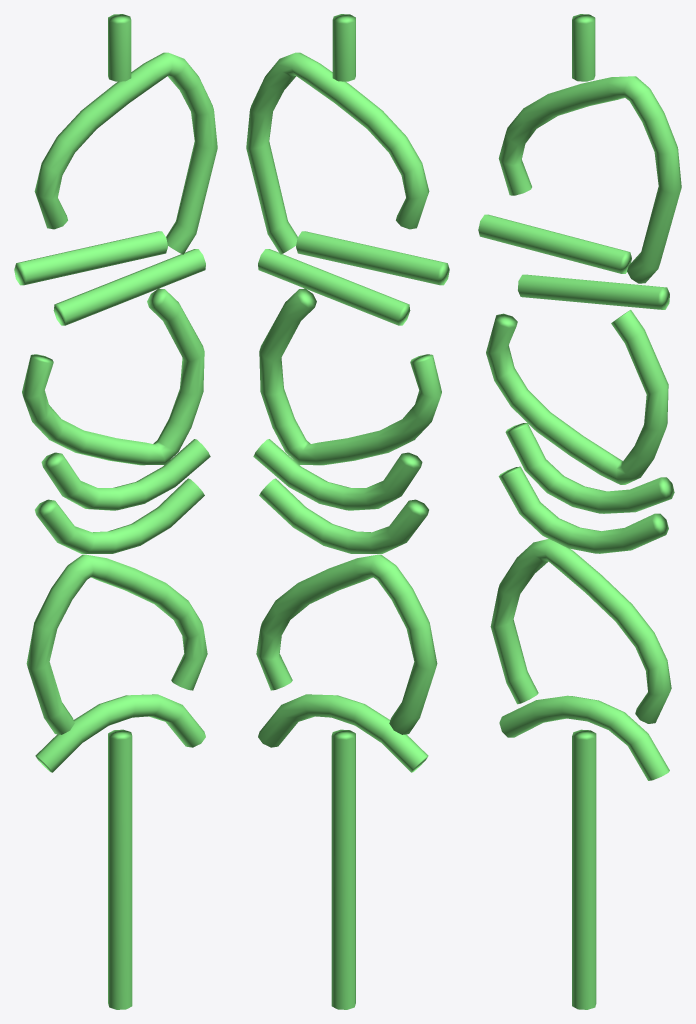
The model's file is KebabNeon_01.fbx.
The picture shows the model from 3 angles, left to right: view 1: azimuth 30°, elevation 25°; view 2: azimuth 150°, elevation 25°; view 3: azimuth 330°, elevation 25°; orthographic projection.
Parts seen in each view (by area): view 1: KebabNeon_01; view 2: KebabNeon_01; view 3: KebabNeon_01.
Boxes of the visible parts, x1,y1,x2,y2 form: KebabNeon_01: [14, 14, 217, 1009]; KebabNeon_01: [246, 14, 449, 1009]; KebabNeon_01: [478, 14, 681, 1009].
Bounding box in the file's own units: 338 × 1623 × 37.65.
